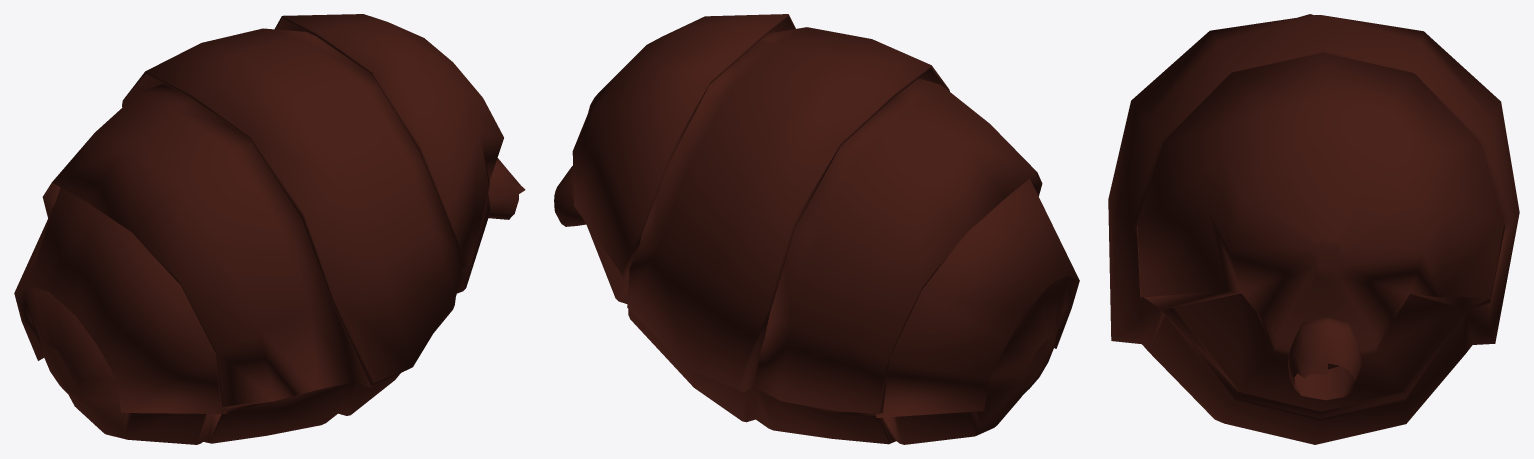
The model's file is abdomen.dae.
3 renders of one model, left to right at view 1: azimuth 30°, elevation 25°; view 2: azimuth 150°, elevation 25°; view 3: azimuth 270°, elevation 25°, orthographic. The views are drawn at different scales.
Parts seen in each view (by area): view 1: Mesh_0.001; view 2: Mesh_0.001; view 3: Mesh_0.001.
Part boxes in pixels (left/top/right/bottom): Mesh_0.001: left=14, top=14, right=525, bottom=444; Mesh_0.001: left=554, top=14, right=1079, bottom=444; Mesh_0.001: left=1108, top=14, right=1519, bottom=444.
Size of the model in its own units: 0.7291 by 0.4963 by 0.5361.
